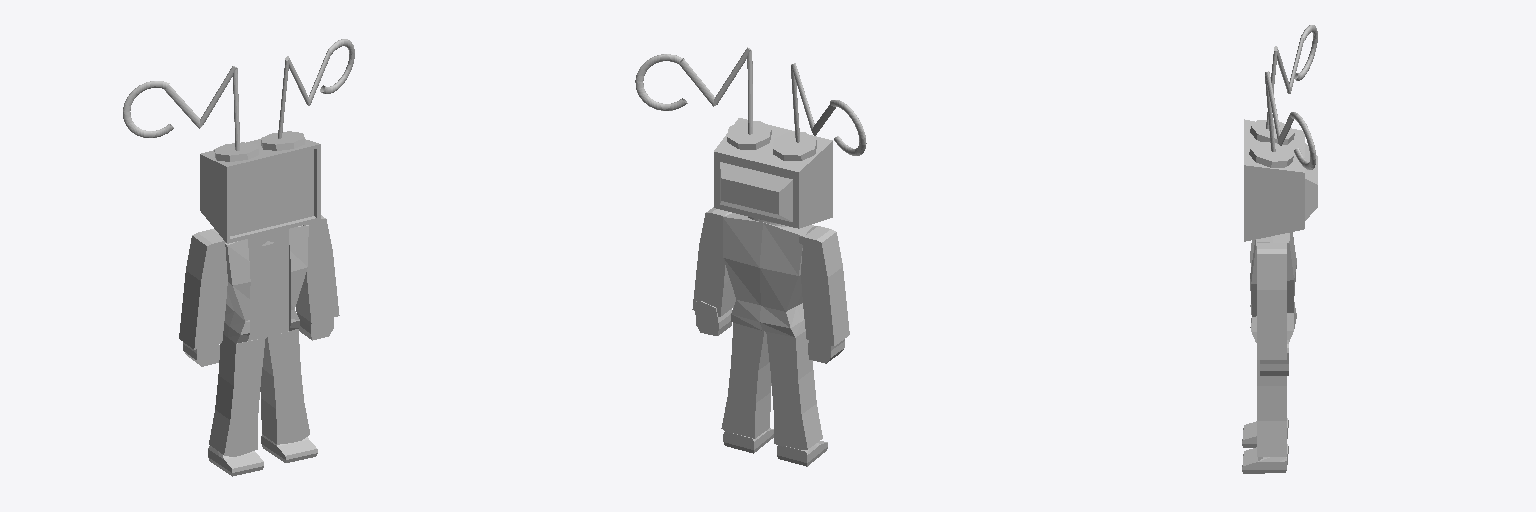
The model's file is what.obj.
3 views of the same model, side by side, from view 1: azimuth 30°, elevation 25°; view 2: azimuth 150°, elevation 25°; view 3: azimuth 270°, elevation 25° (orthographic).
Parts seen in each view (by area): view 1: sdfg, ungrouped; view 2: sdfg; view 3: sdfg.
Part boxes in pixels (bbox=[...]): sdfg: bbox=[123, 39, 354, 476]; ungrouped: bbox=[248, 229, 290, 340]; sdfg: bbox=[635, 47, 866, 466]; sdfg: bbox=[1242, 25, 1317, 473].
Bounding box in the file's own units: 19.72 × 32.26 × 5.63.